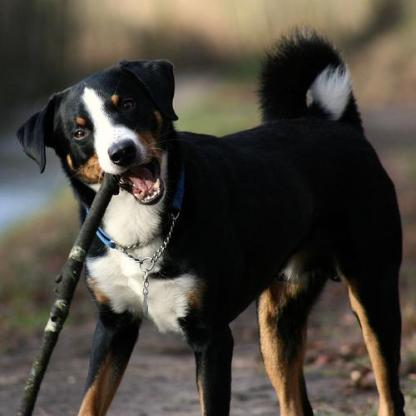Appenzeller: (14, 35, 404, 413)
